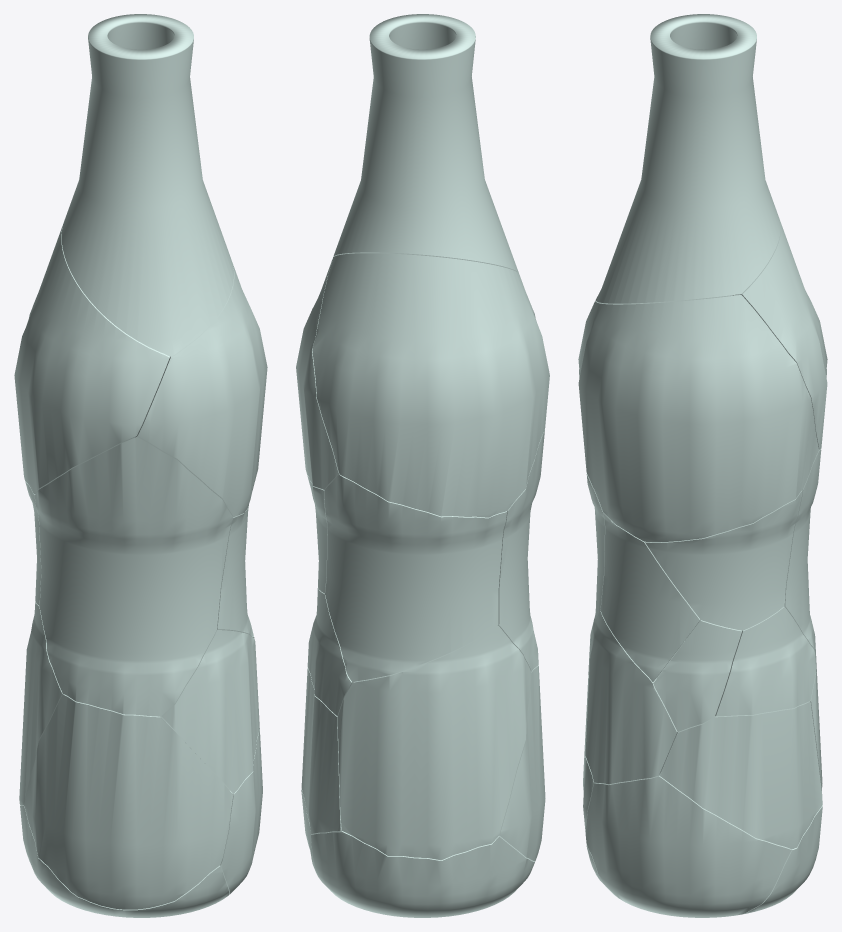
Rendered from bottle_contour_shards.glb.
The picture shows the model from 3 angles, left to right: view 1: azimuth 30°, elevation 25°; view 2: azimuth 150°, elevation 25°; view 3: azimuth 270°, elevation 25°; orthographic projection.
Visible parts, largest first — view 1: Shard_04, Shard_00, Shard_05, Shard_01, Shard_02, Shard_10, Shard_06, Shard_03, Shard_07, Shard_12, Shard_08; view 2: Shard_01, Shard_06, Shard_00, Shard_08, Shard_03, Shard_04, Shard_09, Shard_05, Shard_02, Shard_13, Shard_11; view 3: Shard_02, Shard_00, Shard_07, Shard_09, Shard_11, Shard_10, Shard_12, Shard_13, Shard_01, Shard_14, Shard_08, Shard_03 (+3 smaller).
Part boxes in pixels (x1,y1,x2,y2): Shard_04: (34,437,233,716); Shard_00: (61,14,233,356); Shard_05: (24,694,233,909); Shard_01: (14,223,169,494); Shard_02: (135,262,267,516); Shard_10: (161,630,259,793); Shard_06: (19,601,63,804); Shard_03: (20,805,229,917); Shard_07: (200,729,262,894); Shard_12: (217,507,253,636); Shard_08: (25,481,41,605); Shard_01: (312,253,549,517); Shard_06: (337,626,531,860); Shard_00: (333,14,518,272); Shard_08: (324,473,507,681); Shard_03: (311,830,534,917); Shard_04: (498,429,544,671); Shard_09: (301,667,341,833); Shard_05: (499,665,545,861); Shard_02: (296,256,338,489); Shard_13: (307,588,353,716); Shard_11: (307,475,327,593); Shard_02: (578,295,818,542); Shard_00: (595,14,780,303); Shard_07: (585,773,791,917); Shard_09: (659,701,822,849); Shard_11: (645,490,802,630); Shard_10: (585,611,677,784); Shard_12: (600,513,700,681); Shard_13: (715,606,815,716); Shard_01: (733,221,827,449); Shard_14: (653,620,741,731); Shard_08: (784,449,821,650); Shard_03: (586,805,822,913).
Bounding box in the file's own units: 0.0632 × 0.2311 × 0.062.
